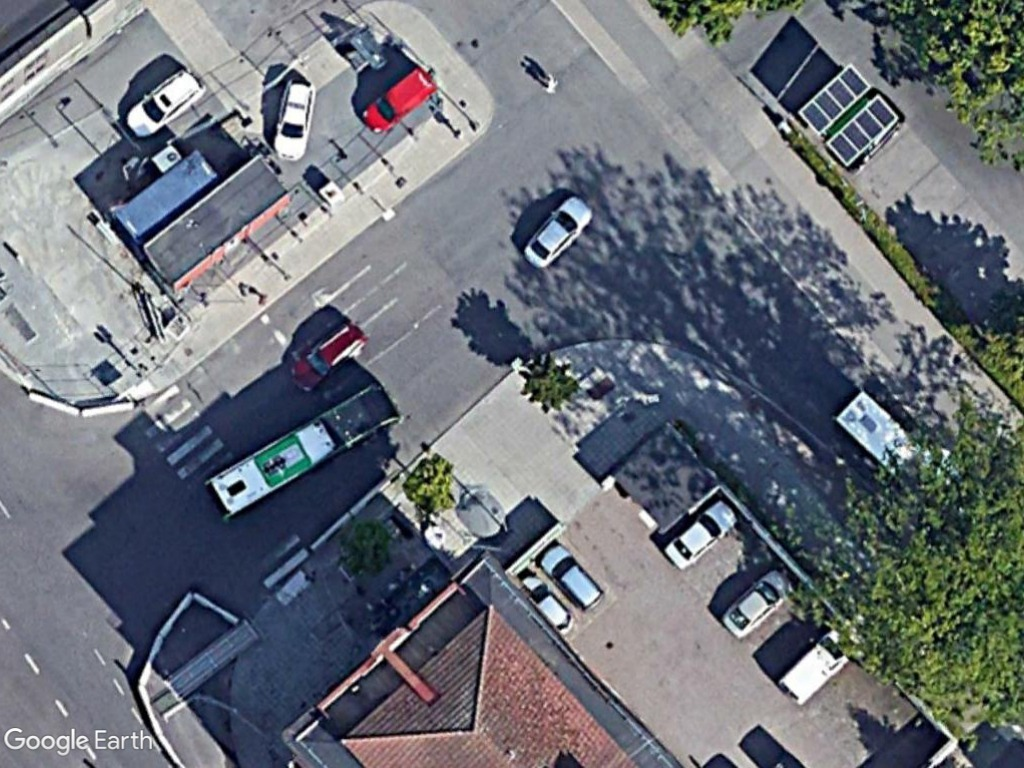bus: (200, 381, 398, 523)
car: (283, 317, 371, 397), (658, 495, 739, 576), (520, 191, 596, 273), (122, 66, 204, 142), (716, 565, 795, 639), (539, 540, 607, 616), (269, 75, 319, 163)
van: (357, 65, 438, 138)
